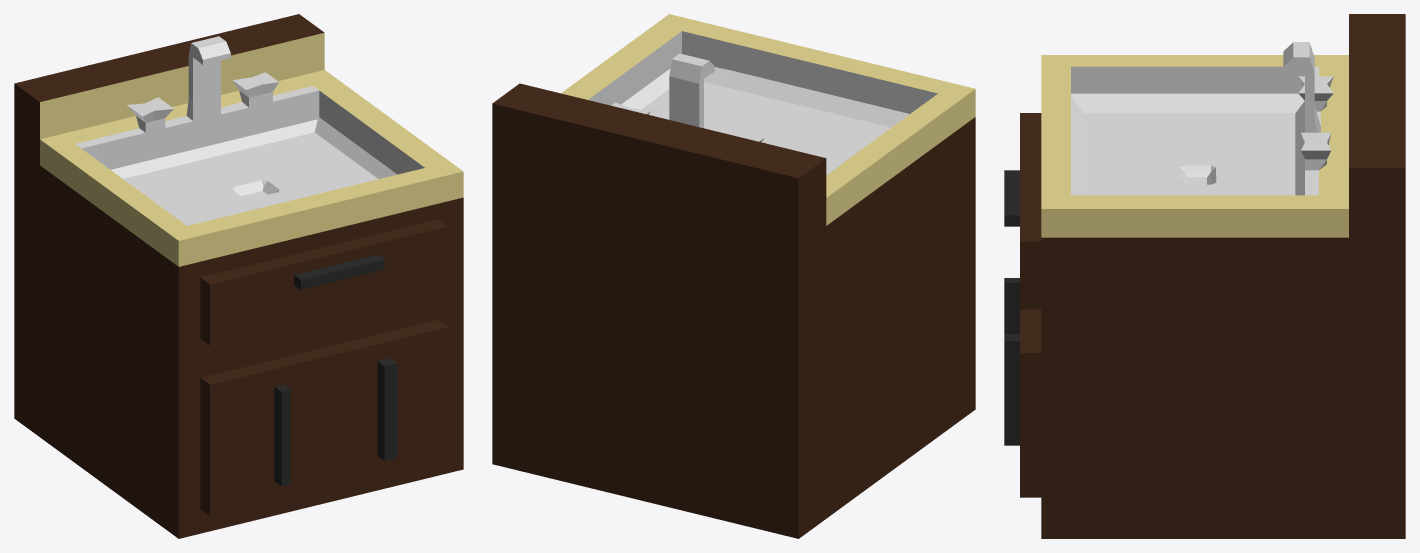
The model's file is sink_counter 1.fbx.
The picture shows the model from 3 angles, left to right: view 1: azimuth 30°, elevation 25°; view 2: azimuth 150°, elevation 25°; view 3: azimuth 270°, elevation 25°; orthographic projection. The views are drawn at different scales.
Visible parts, largest first — view 1: Cube; view 2: Cube; view 3: Cube.
Part boxes in pixels (left/top/right/bottom): Cube: left=14, top=14, right=463, bottom=538; Cube: left=492, top=14, right=975, bottom=538; Cube: left=1004, top=14, right=1405, bottom=538.
Bounding box in the file's own units: 200 × 252 × 220.
